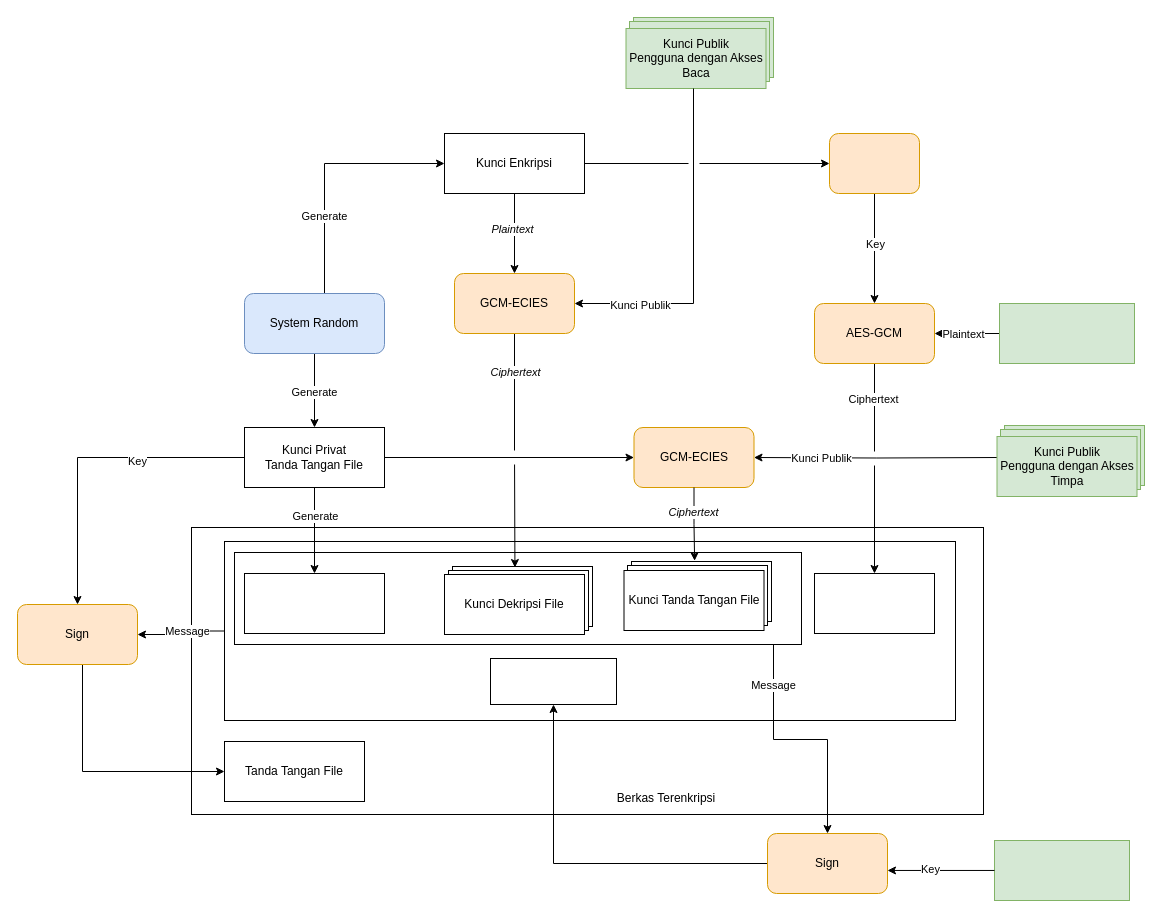
Image size: 1162x918. Some labels were removed from this diagram. The shapes that lost their labels are listed below. From the top down, each one's centre as x and y in pixels, then its label:
At [874,163]: "PBKDF2".
At [1066,333]: "Pesan".
At [314,603]: "Kunci Publik Tanda Tangan File".
At [874,603]: "Pesan Terenkripsi".
At [553,681]: "Tanda Tangan Header".
At [1062,870]: "Kunci Privat Pembuat File".
